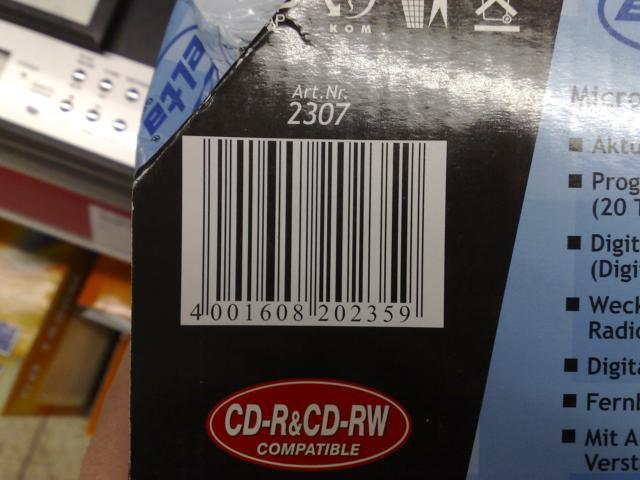Barcode: (179, 136, 447, 328)
